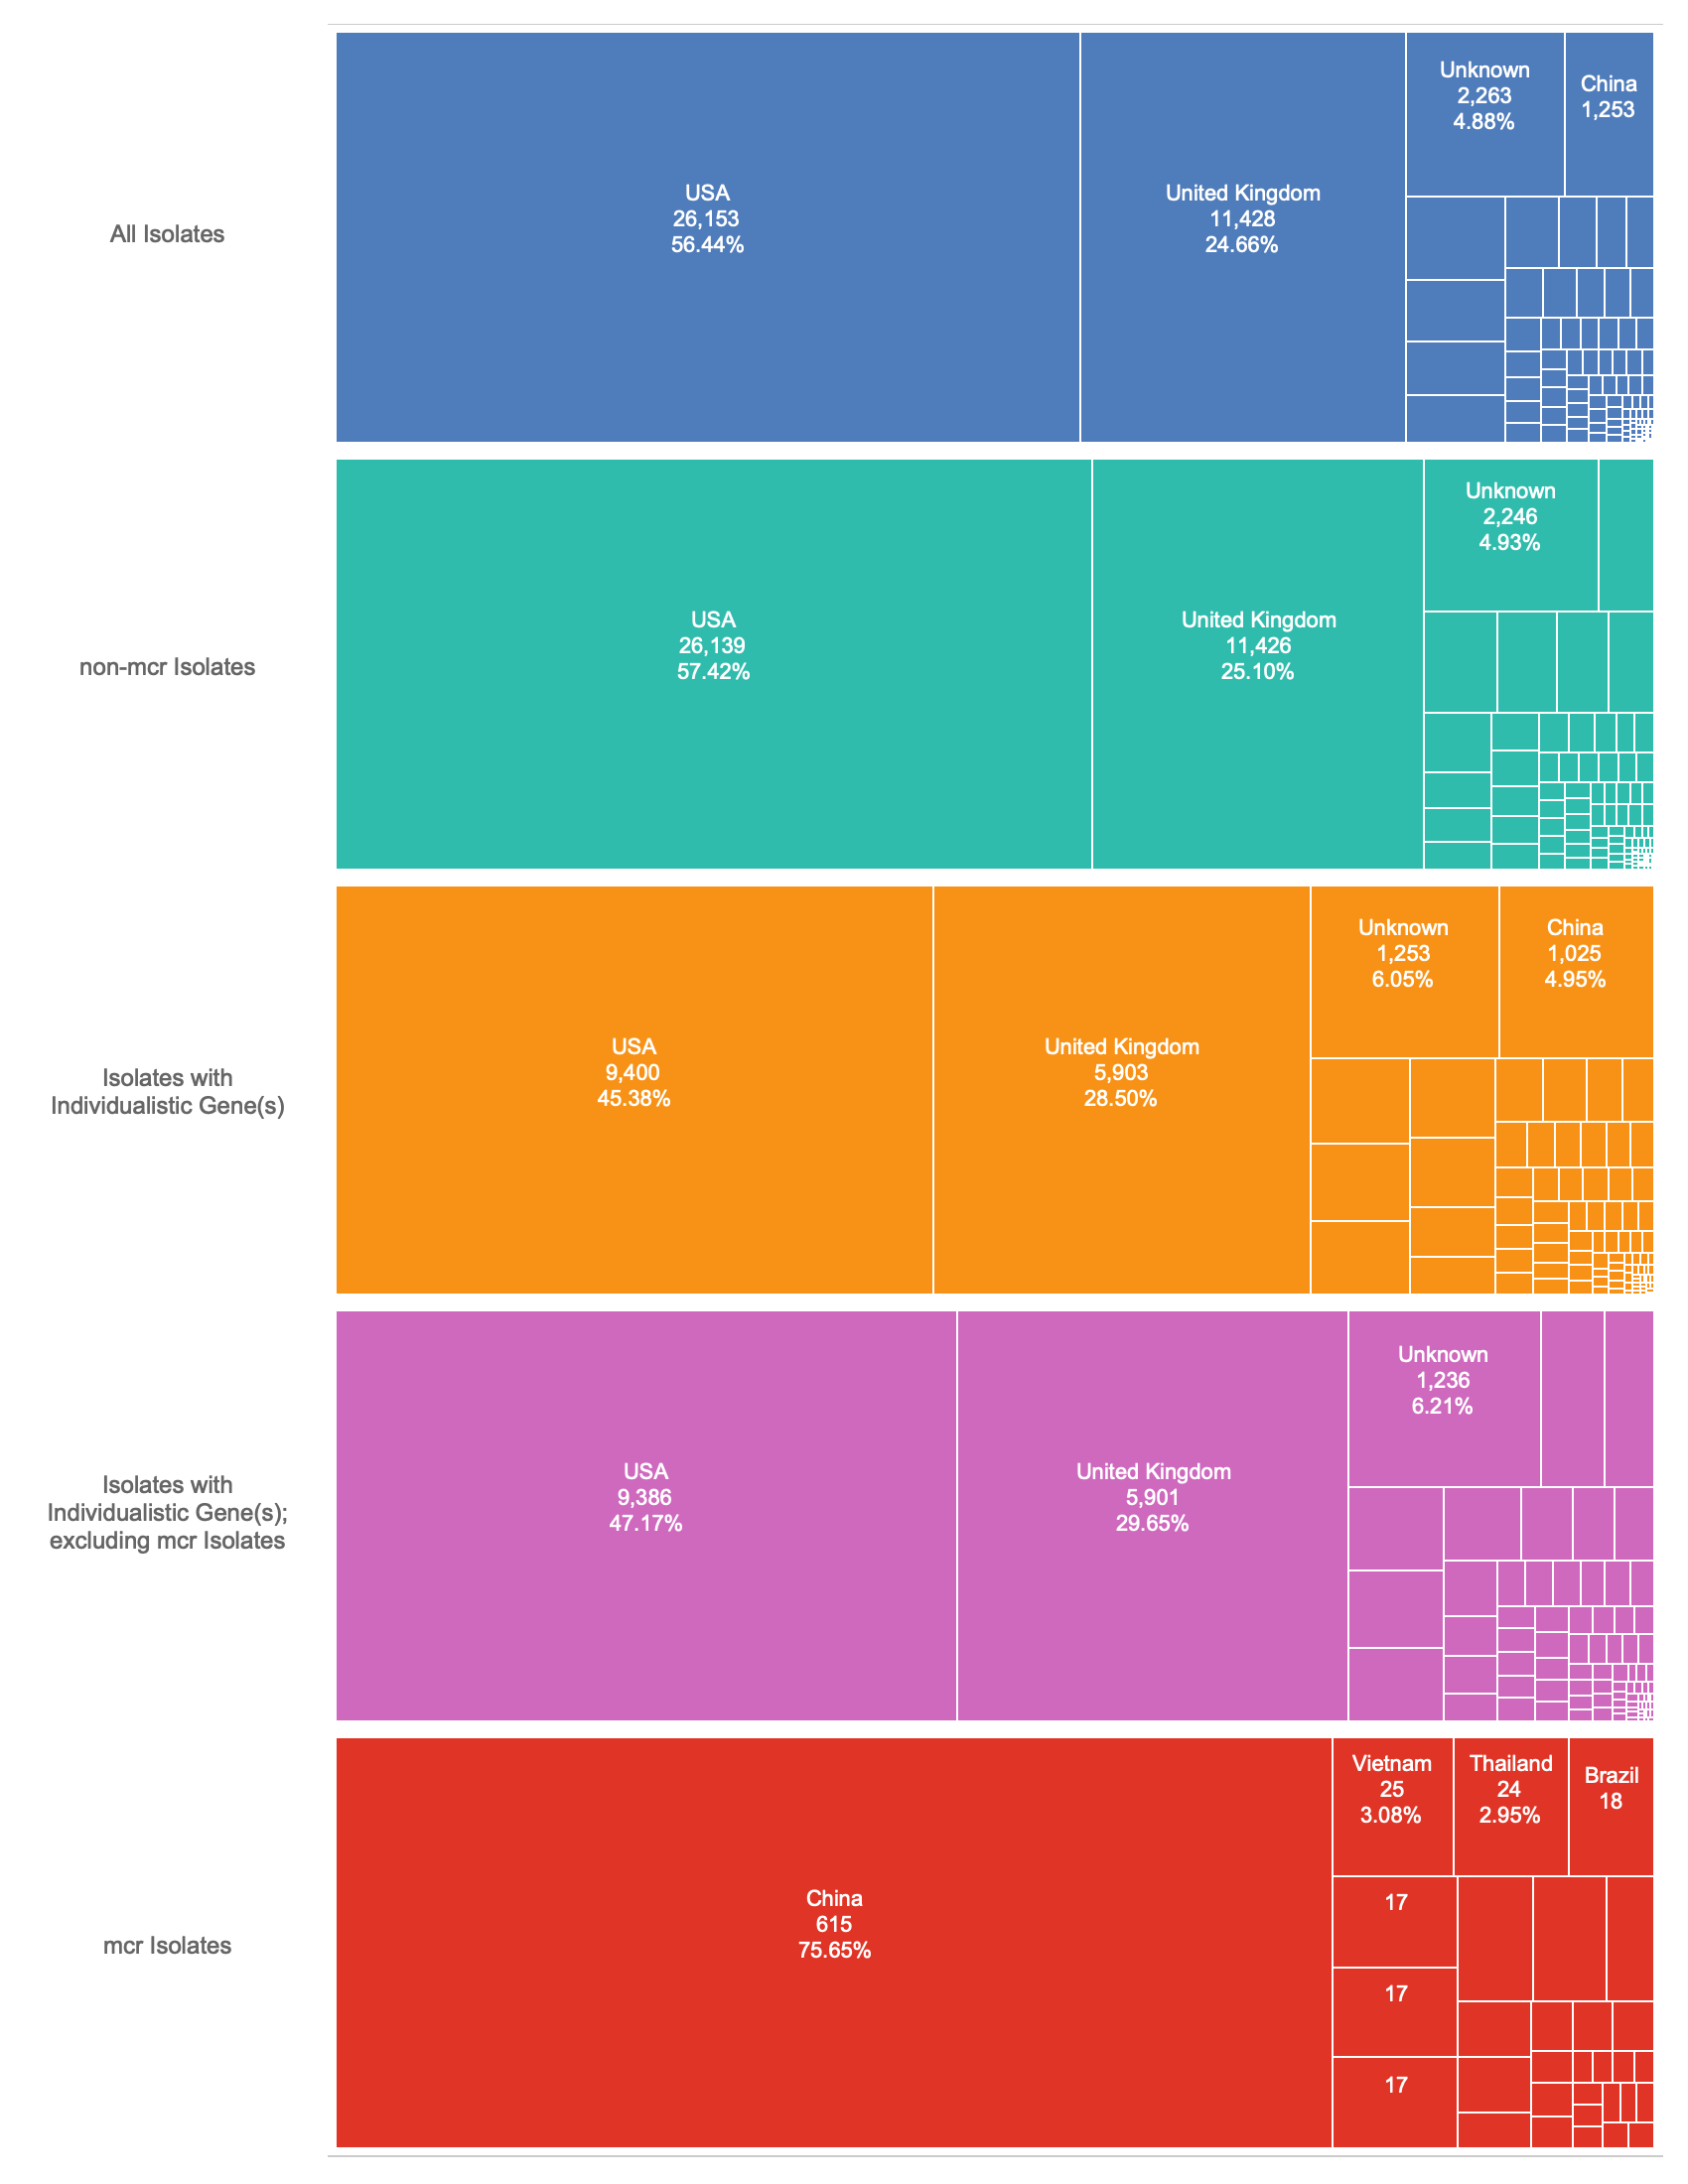

The dashboard page shown, as its layout file describes it:
{"tool":"tableau","page":{"name":"Country Dasboard","canvas":[850,1100],"ordinal":2},"visuals":[{"type":"text","box":[8,8,152.8,220.3]},{"type":"worksheet","title":"by country - Treemap","mark":"Automatic","rows":["set"],"box":[160.8,8,681.2,1084]},{"type":"text","box":[8,228.3,152.8,215.5]},{"type":"text","box":[8,443.8,152.8,212.4]},{"type":"text","box":[8,656.1,152.8,212.4]},{"type":"text","box":[8,868.5,152.8,223.5]}]}

Visuals, with their boxes in screenshot pixels (x1, y1, x2, y2), scaled from the page's 850x1100 canvas onto the 1688x2184 screenshot:
text: (16, 16, 320, 454)
"by country - Treemap" worksheet: (320, 16, 1672, 2168)
text: (16, 454, 320, 882)
text: (16, 882, 320, 1302)
text: (16, 1302, 320, 1724)
text: (16, 1724, 320, 2168)
